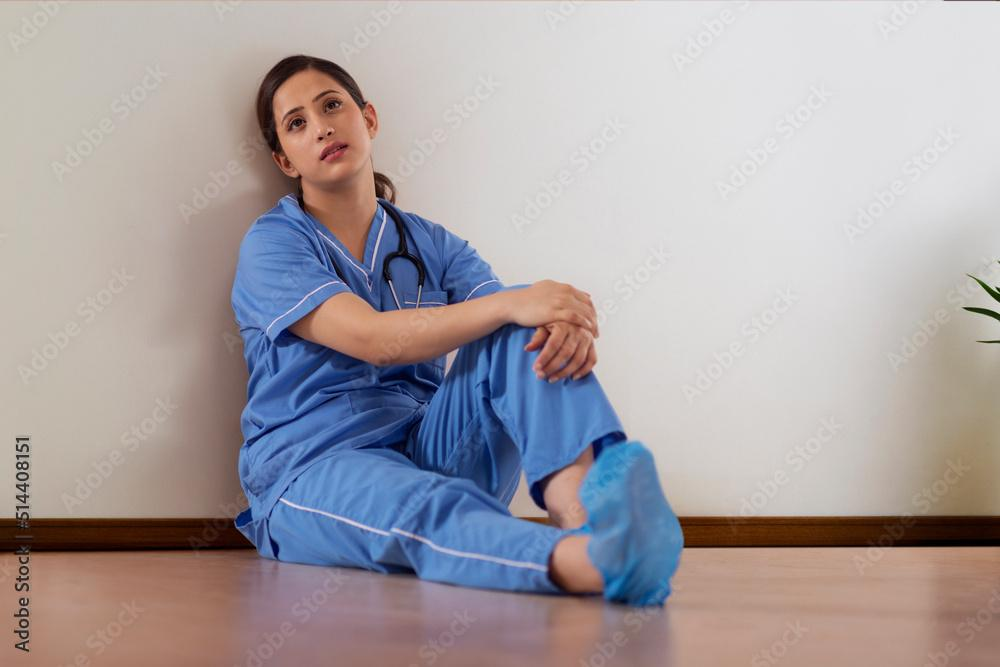Human: (225, 57, 711, 649)
